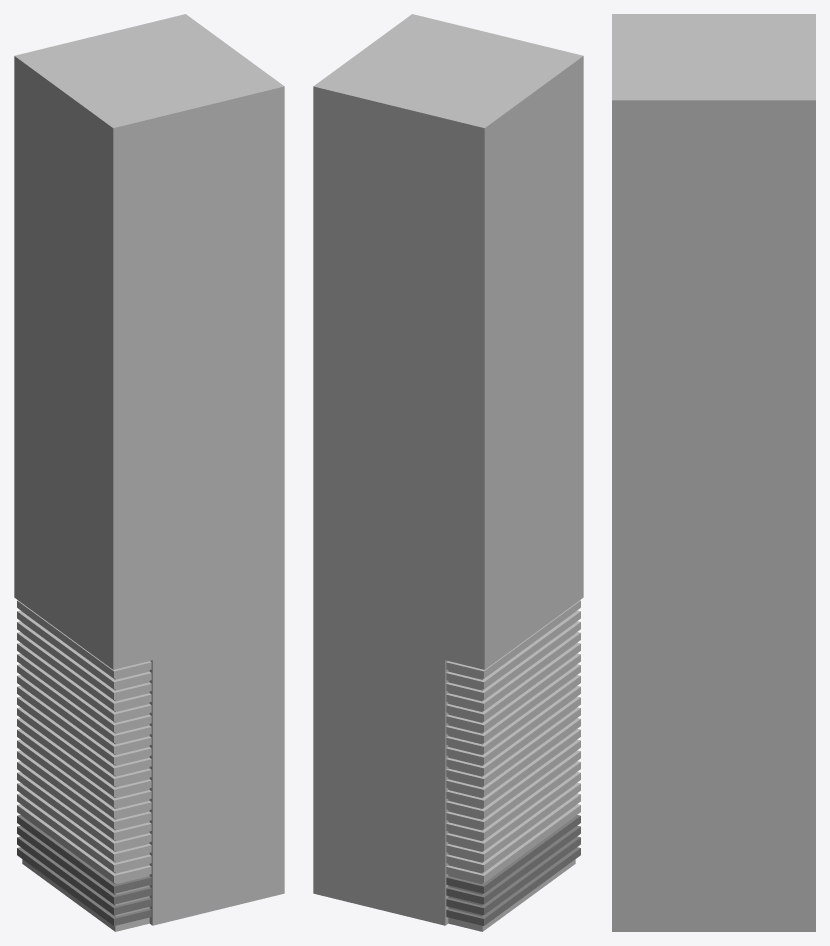
File: SM_Pillar_Mall_01_Bottom_Short.fbx
3 renders of one model, left to right at view 1: azimuth 30°, elevation 25°; view 2: azimuth 150°, elevation 25°; view 3: azimuth 270°, elevation 25°, orthographic. The views are drawn at different scales.
Parts seen in each view (by area): view 1: SM_Pillar_Mall_01_Bottom_Short_LOD0; view 2: SM_Pillar_Mall_01_Bottom_Short_LOD0; view 3: SM_Pillar_Mall_01_Bottom_Short_LOD0.
Part boxes in pixels (left/top/right/bottom): SM_Pillar_Mall_01_Bottom_Short_LOD0: left=14, top=14, right=284, bottom=931; SM_Pillar_Mall_01_Bottom_Short_LOD0: left=313, top=14, right=583, bottom=931; SM_Pillar_Mall_01_Bottom_Short_LOD0: left=612, top=14, right=815, bottom=931.
Size of the model in its own units: 100 by 100 by 450.
